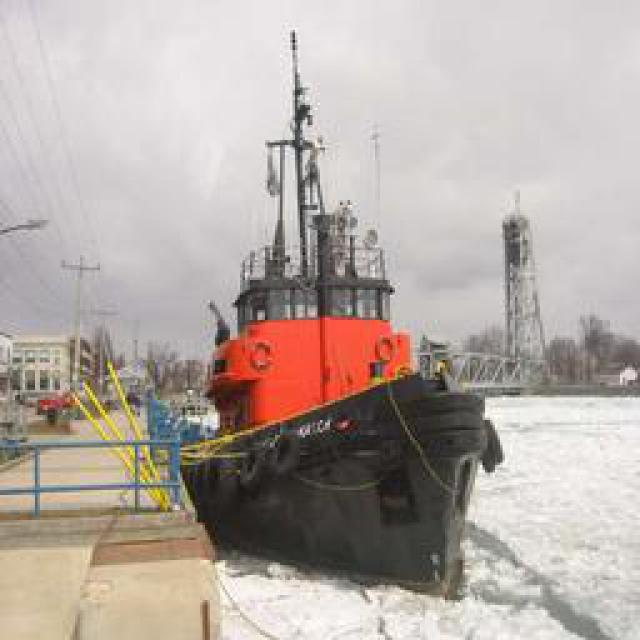Ship: (177, 16, 520, 608)
